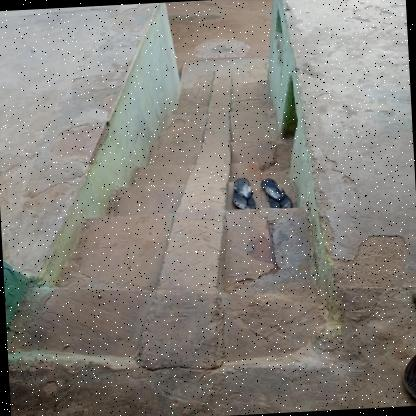stair: (81, 47, 296, 410)
